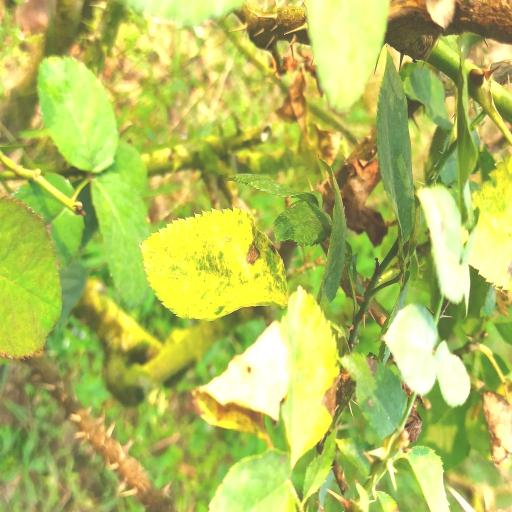healthy_leaf: (0, 197, 61, 358), (37, 56, 118, 173), (92, 172, 150, 306), (209, 450, 296, 512)
red_mite: (141, 208, 287, 320), (280, 287, 338, 466), (470, 156, 512, 290)
thrip: (193, 321, 290, 438)
